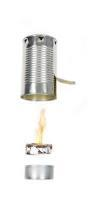Tin: (14, 27, 68, 111)
